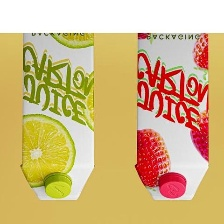carton: (16, 31, 100, 204), (131, 29, 214, 202)
